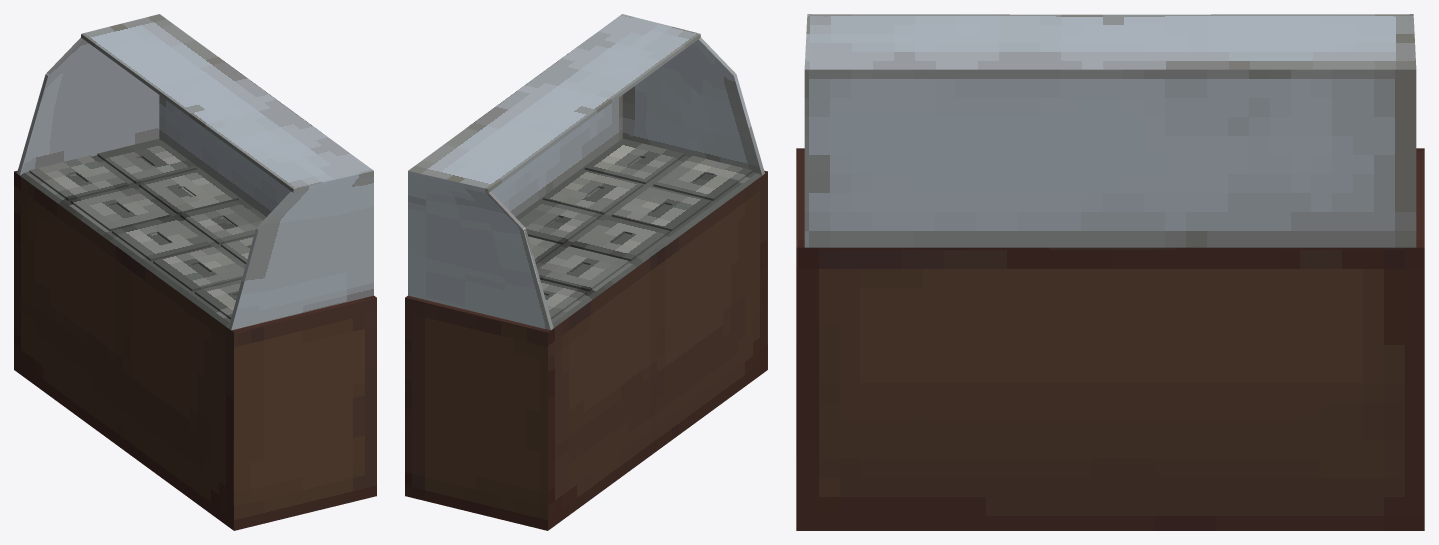
Rendered from cafeteria_model2.fbx.
3 views of the same model, side by side, from view 1: azimuth 30°, elevation 25°; view 2: azimuth 150°, elevation 25°; view 3: azimuth 270°, elevation 25° (orthographic). The views are drawn at different scales.
Visible parts, largest first — view 1: Cube.003; view 2: Cube.003; view 3: Cube.003.
Part boxes in pixels (x1=…): Cube.003: x1=14, y1=14, x2=376, y2=530; Cube.003: x1=405, y1=14, x2=767, y2=530; Cube.003: x1=796, y1=14, x2=1424, y2=530.
Size of the model in its own units: 200 by 433 by 534.
1 material, 1 textured.
